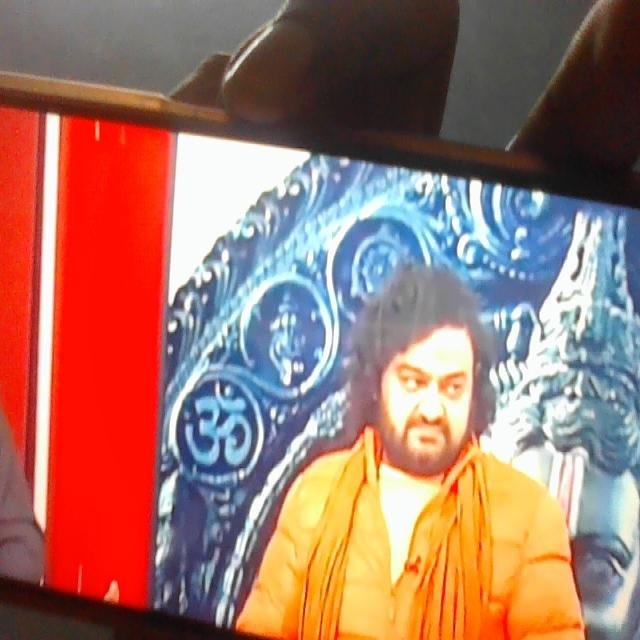fake: (352, 249, 488, 507)
